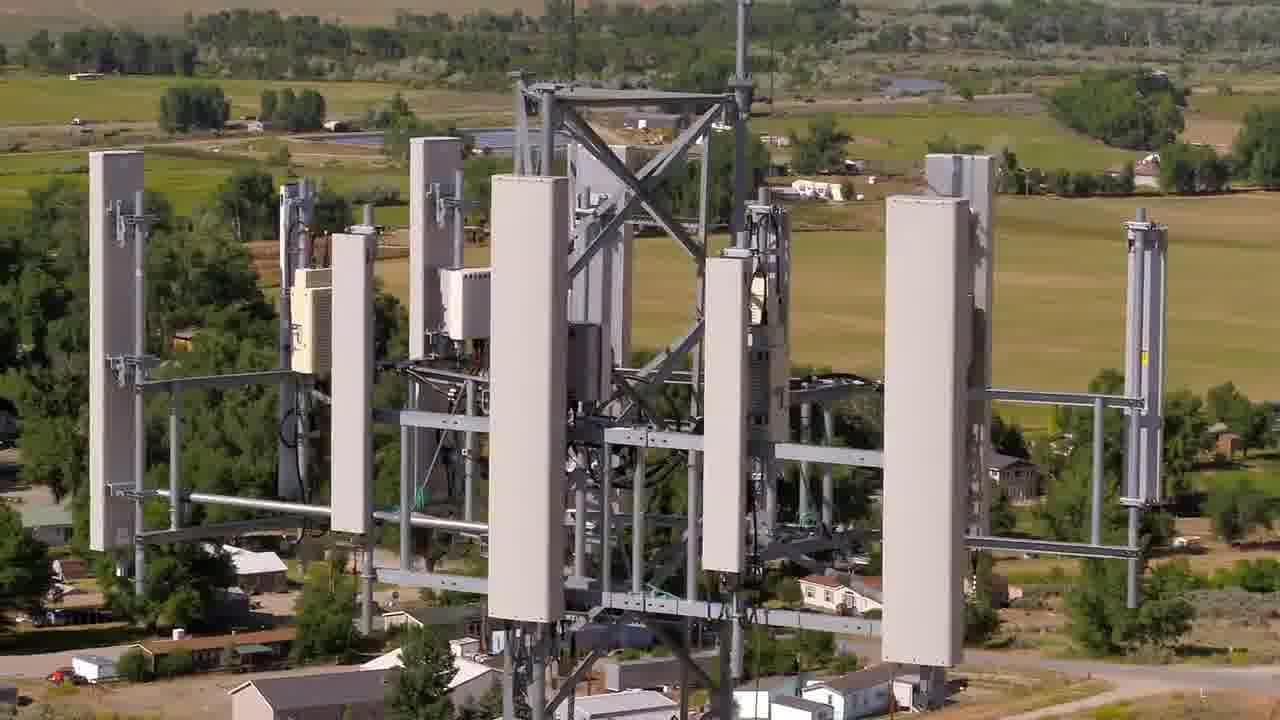antenna: (889, 183, 987, 670), (478, 156, 577, 621), (78, 148, 164, 571), (690, 240, 767, 596), (919, 131, 992, 476), (401, 123, 474, 452), (561, 131, 620, 531), (322, 221, 386, 550), (1127, 202, 1181, 533)
